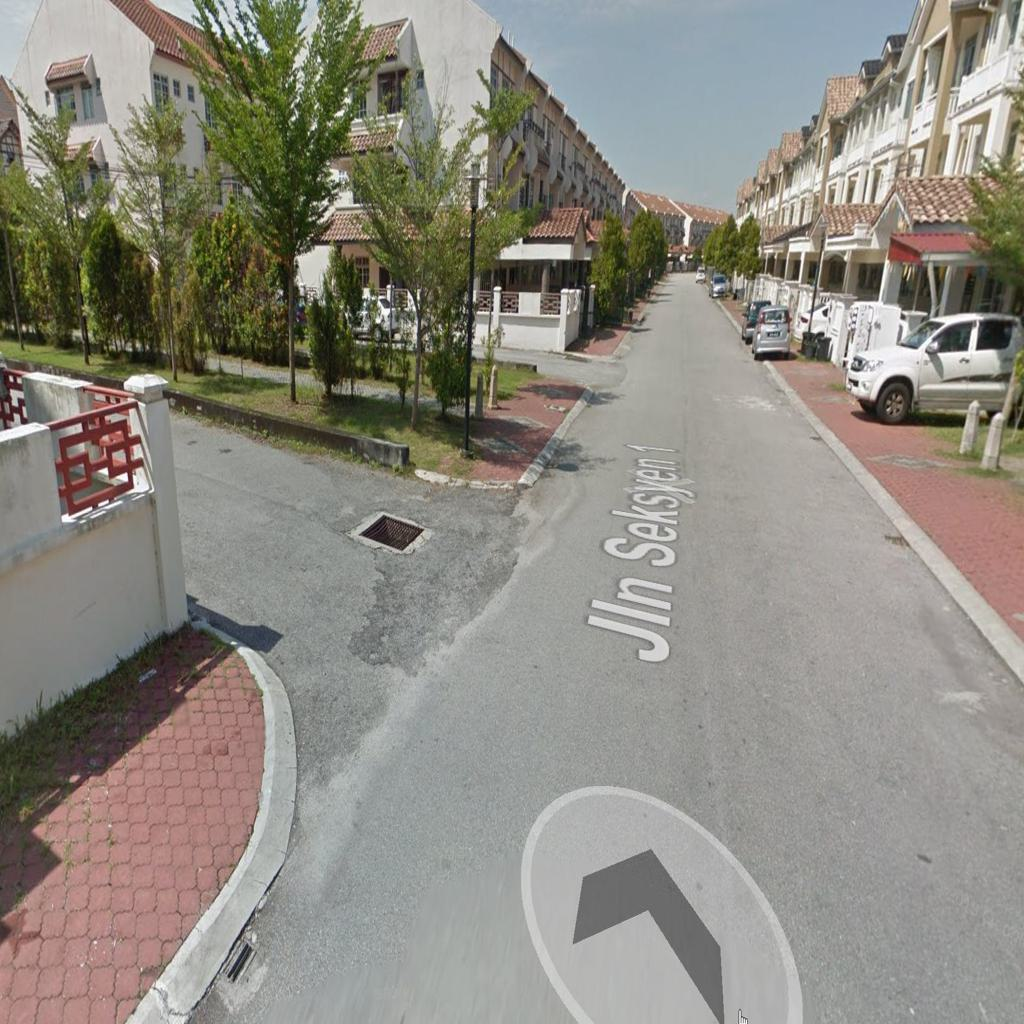Junction: (176, 407, 531, 784), (505, 317, 624, 400)
